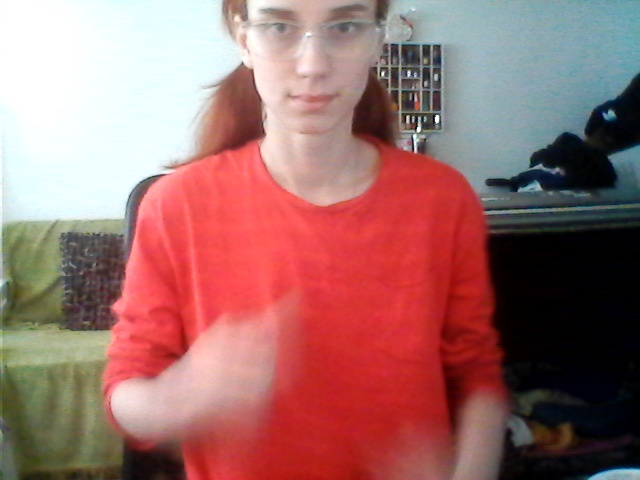ja: (178, 278, 362, 431)
